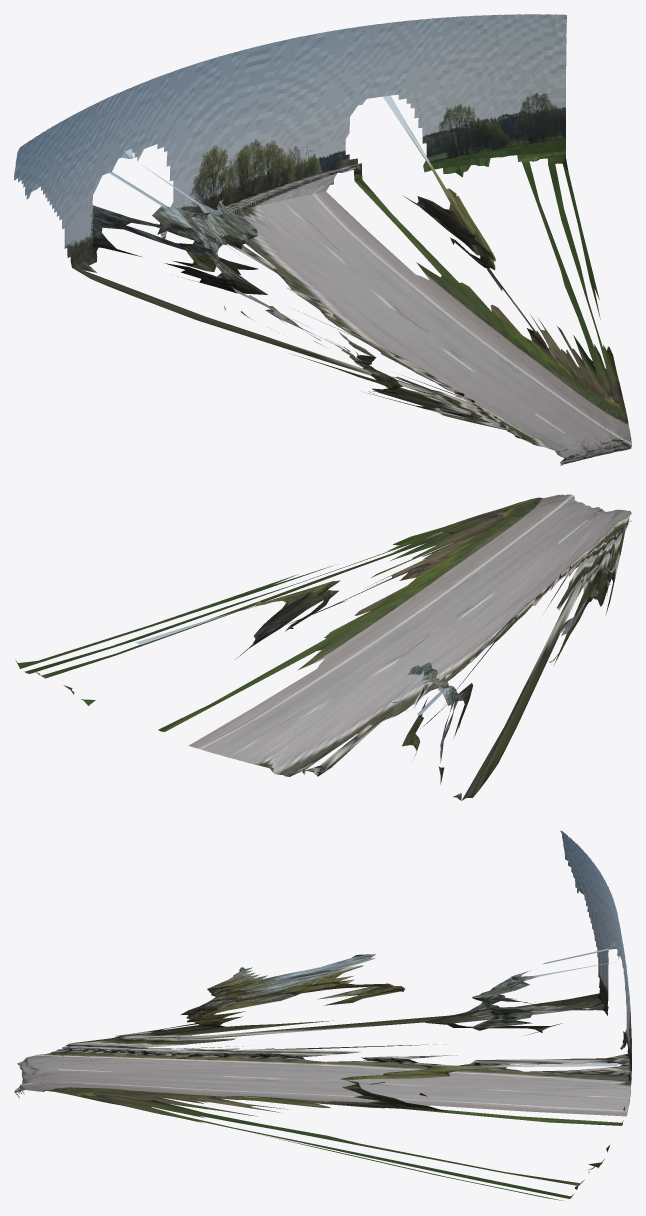
The picture shows the model from 3 angles, top to bottom: view 1: azimuth 30°, elevation 25°; view 2: azimuth 150°, elevation 25°; view 3: azimuth 270°, elevation 25°; orthographic projection. The views are drawn at different scales.
Visible parts, largest first — view 1: defaultobject; view 2: defaultobject; view 3: defaultobject.
Boxes of the visible parts, x1,y1,x2,y2 form: defaultobject: (14,14,631,465); defaultobject: (15,494,631,800); defaultobject: (14,830,631,1200).
Bounding box in the file's own units: 41 × 12.09 × 44.58.
1 material, 1 textured.
